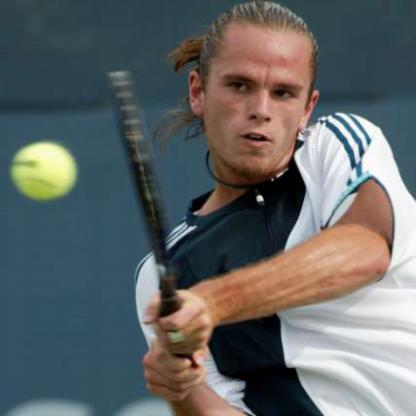face: (204, 5, 311, 175)
